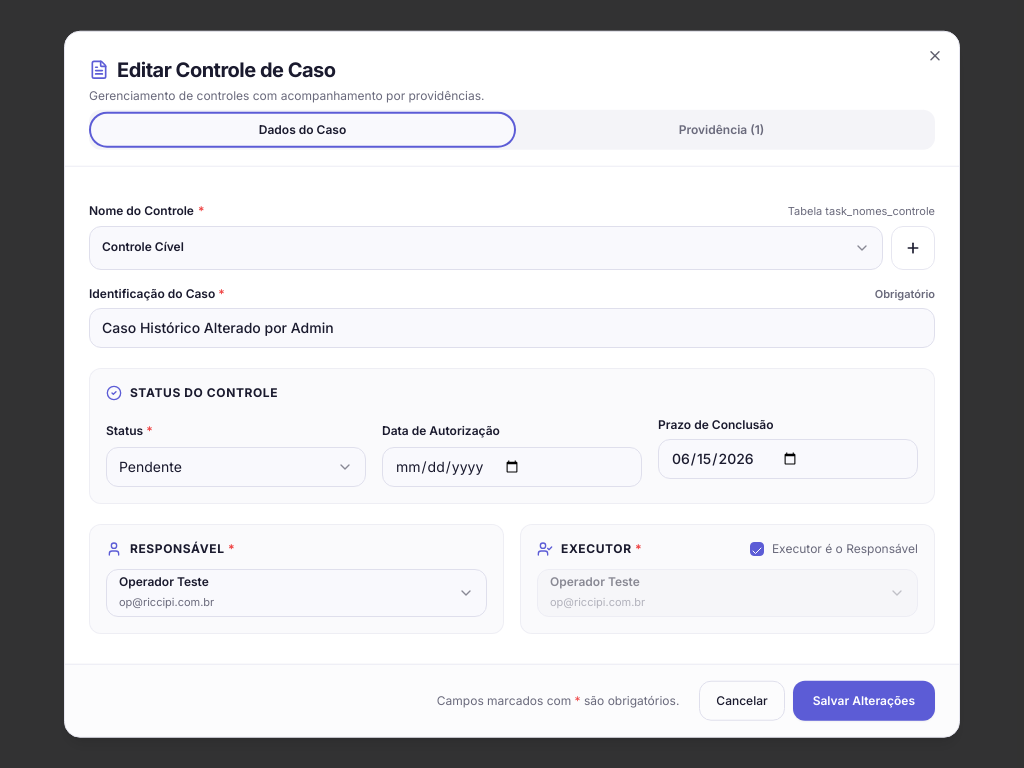
Scenario: ControleModal - Fluxo de Solicitação de Adiamento › histórico inconsistente: se administrador altera o prazo do caso, a providência entra na validação e abre o diálogo
The image size is (1024, 768).
Check: the field showing "Caso Histórico Alterado por Admin" is shown, box [89,307,935,347]
Note: Administrador altera o prazo de conclusão do caso de 15/06/2026 para 20/06/2026
In the date field labelled "Prazo de Conclusão": [788, 458] box [658,438,918,478], type "2026-06-20"
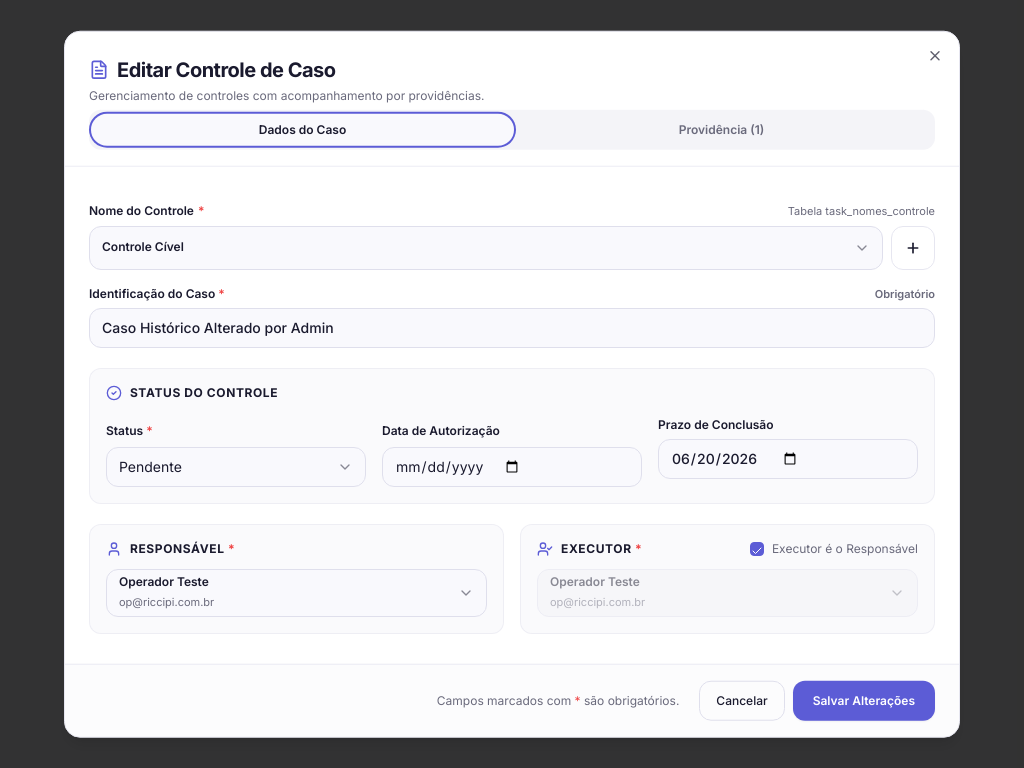
Click the button "Salvar Alterações": [864, 700] box [793,680,935,720]
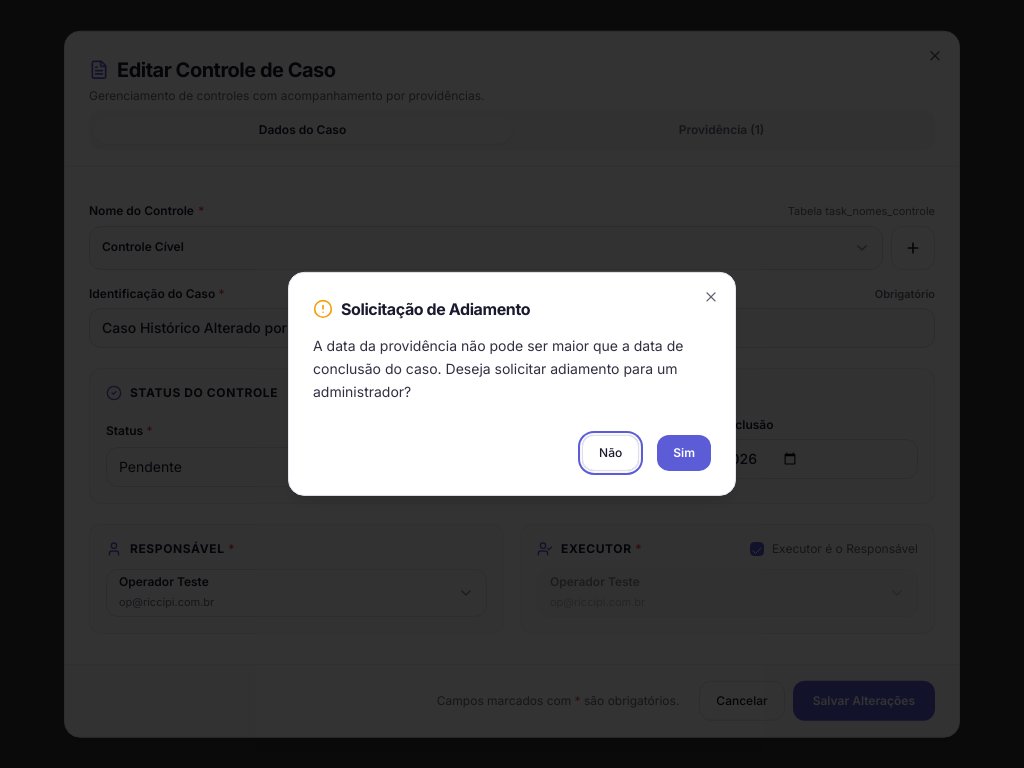
Check: the text "A data da providência não pode ser maior que a data de conclusão do caso. Deseja solicitar adiamento para um administrad" is shown, box [313,337,683,399]
Check: the button "Sim" is shown, box [657,435,711,471]
Check: the button "Não" is shown, box [582,435,639,471]
